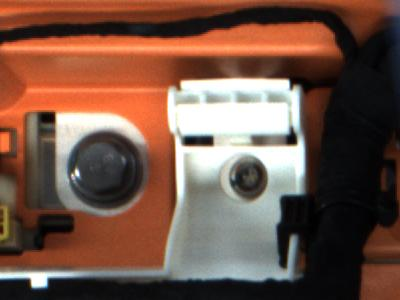nut_b: (66, 127, 145, 212)
